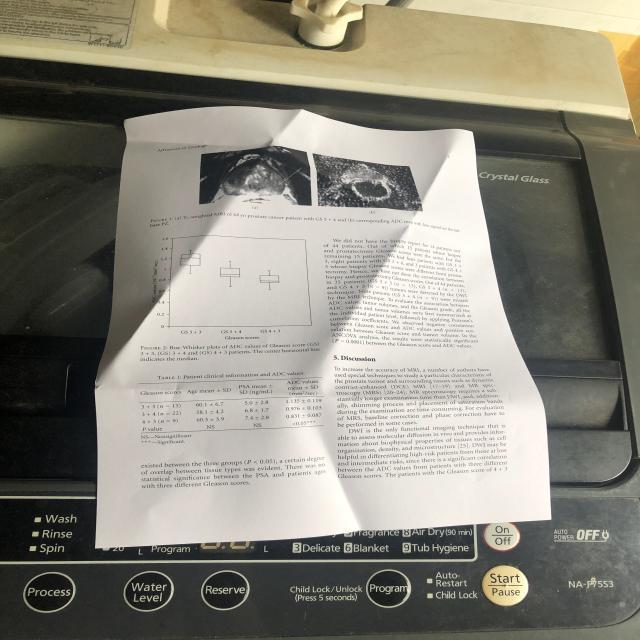kertas: (75, 92, 552, 549)
